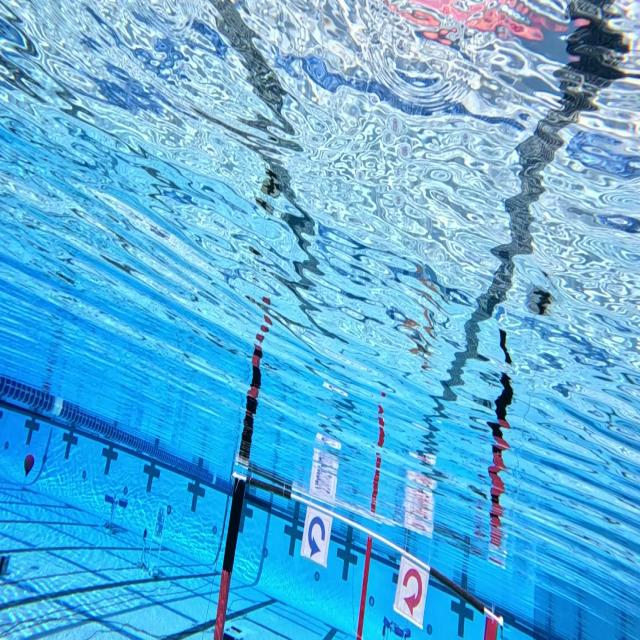blue_side: (303, 502, 333, 566)
red_side: (394, 556, 429, 625)
